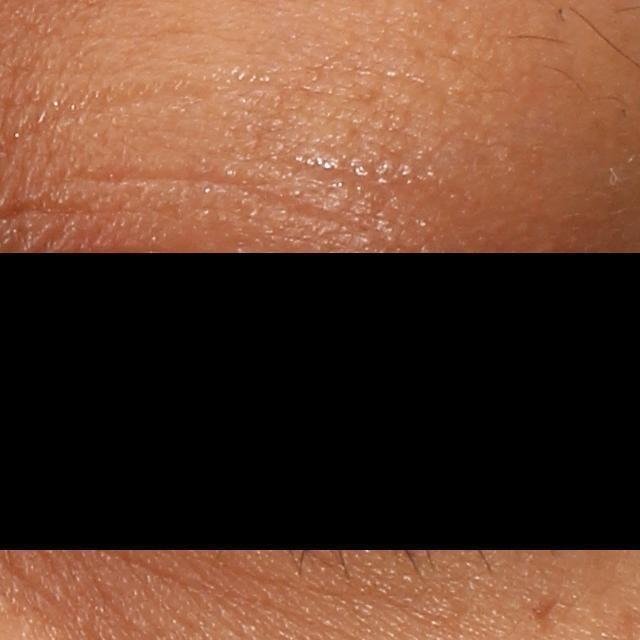melasma: (523, 582, 566, 628)
